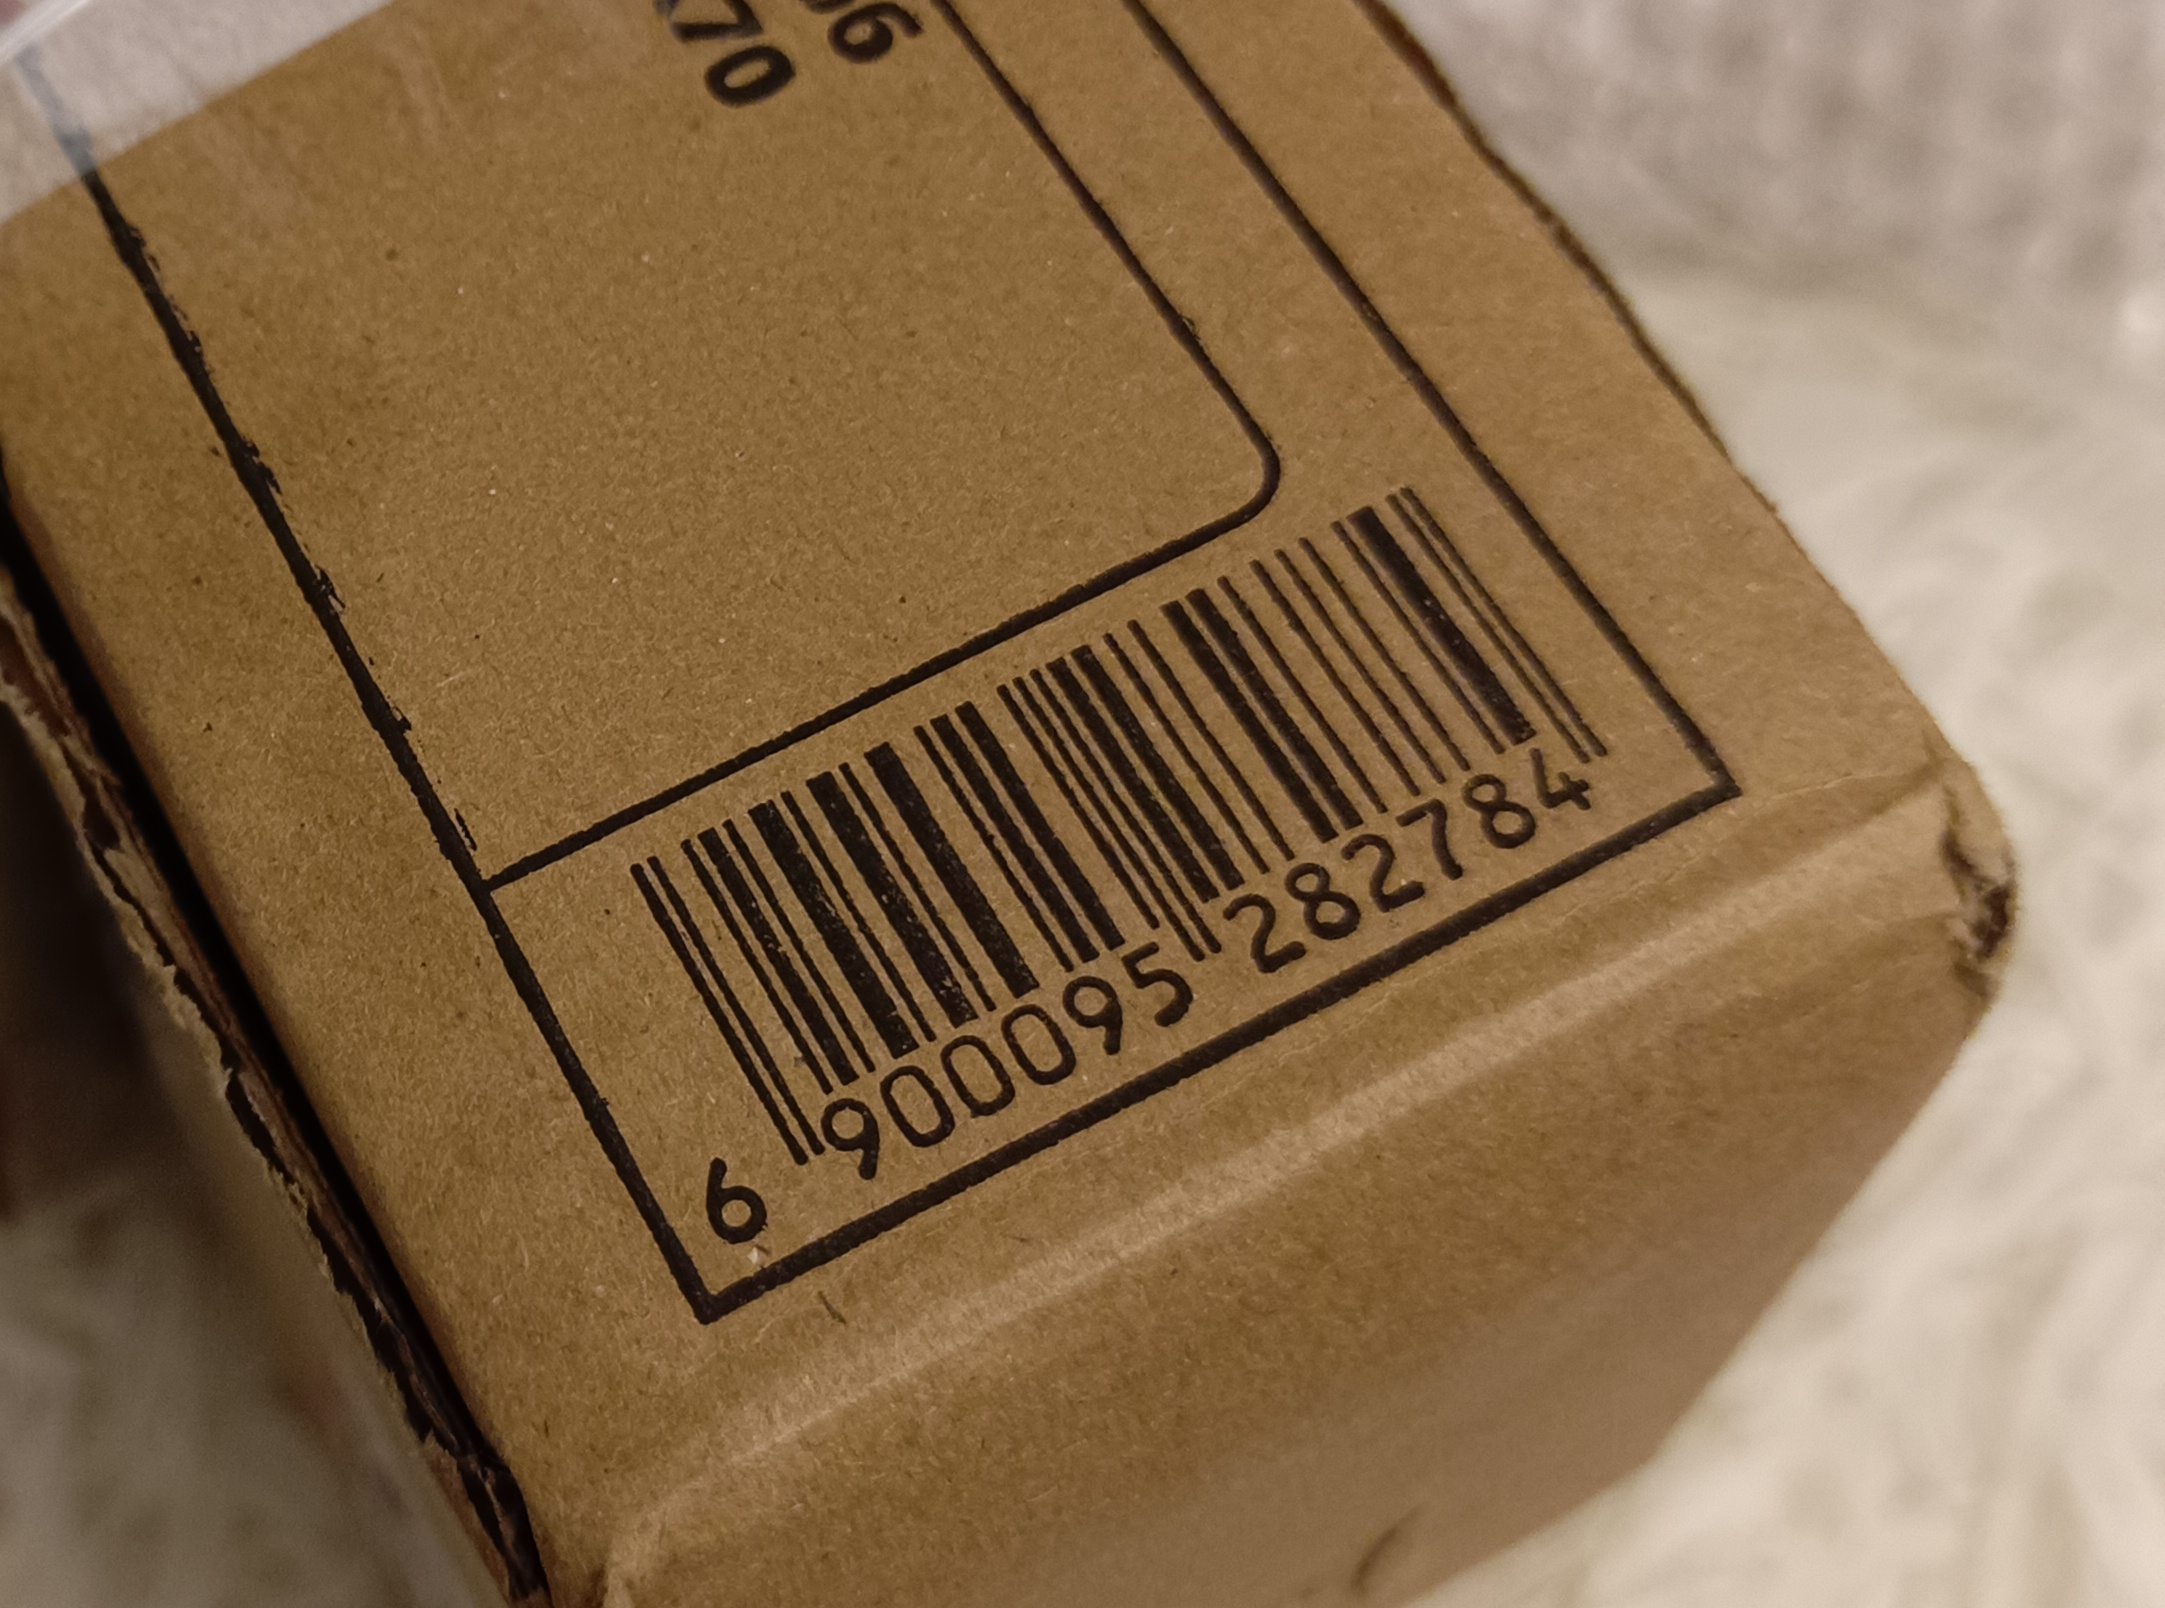1d: (623, 476, 1599, 1135)
